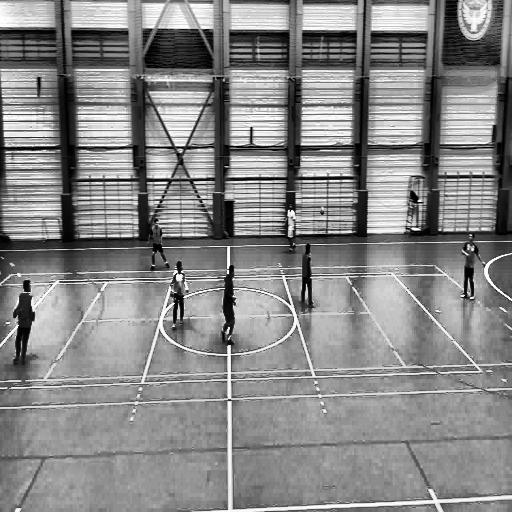ball: (318, 204, 326, 219)
player: (13, 278, 36, 368), (461, 230, 485, 303), (220, 262, 237, 347), (147, 214, 169, 273), (170, 260, 188, 332), (301, 242, 315, 311), (281, 202, 298, 255)
